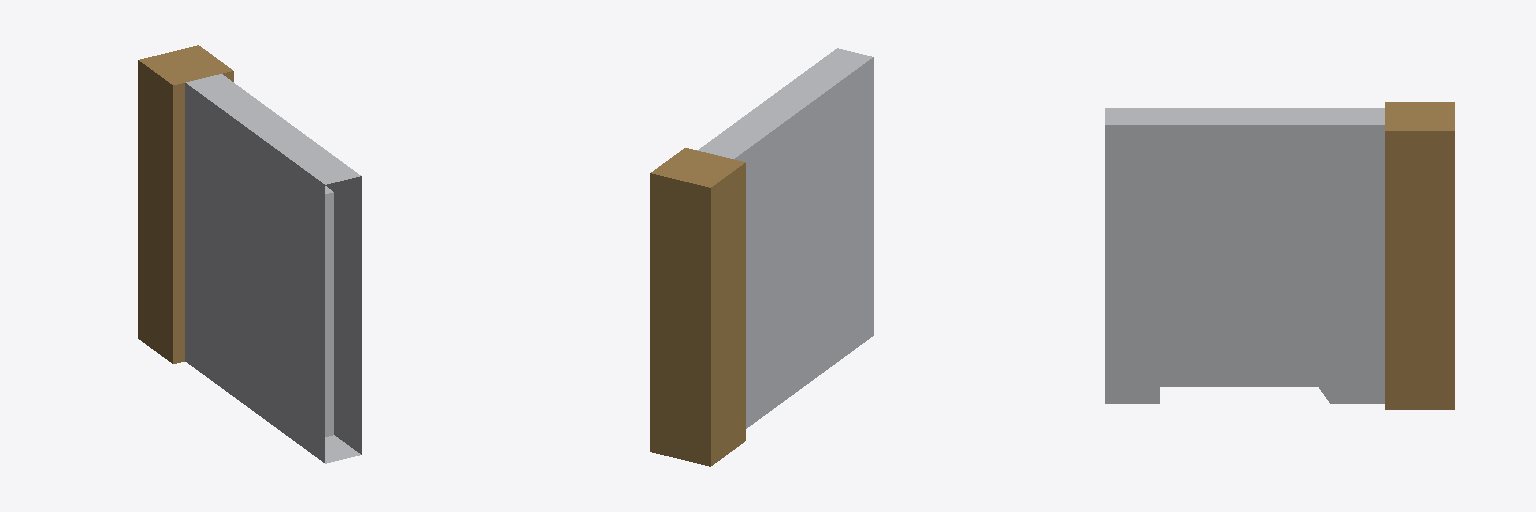
The model's file is Wood_Door_Square_011.obj.
3 renders of one model, left to right at view 1: azimuth 30°, elevation 25°; view 2: azimuth 150°, elevation 25°; view 3: azimuth 270°, elevation 25°, orthographic.
Visible parts, largest first — view 1: Wood_Door_Square_01; view 2: Wood_Door_Square_01; view 3: Wood_Door_Square_01.
Boxes of the visible parts, x1,y1,x2,y2 form: Wood_Door_Square_01: [138, 45, 361, 463]; Wood_Door_Square_01: [650, 48, 873, 466]; Wood_Door_Square_01: [1105, 102, 1454, 409].
Size of the model in its own units: 0.5 by 2.2 by 2.5.